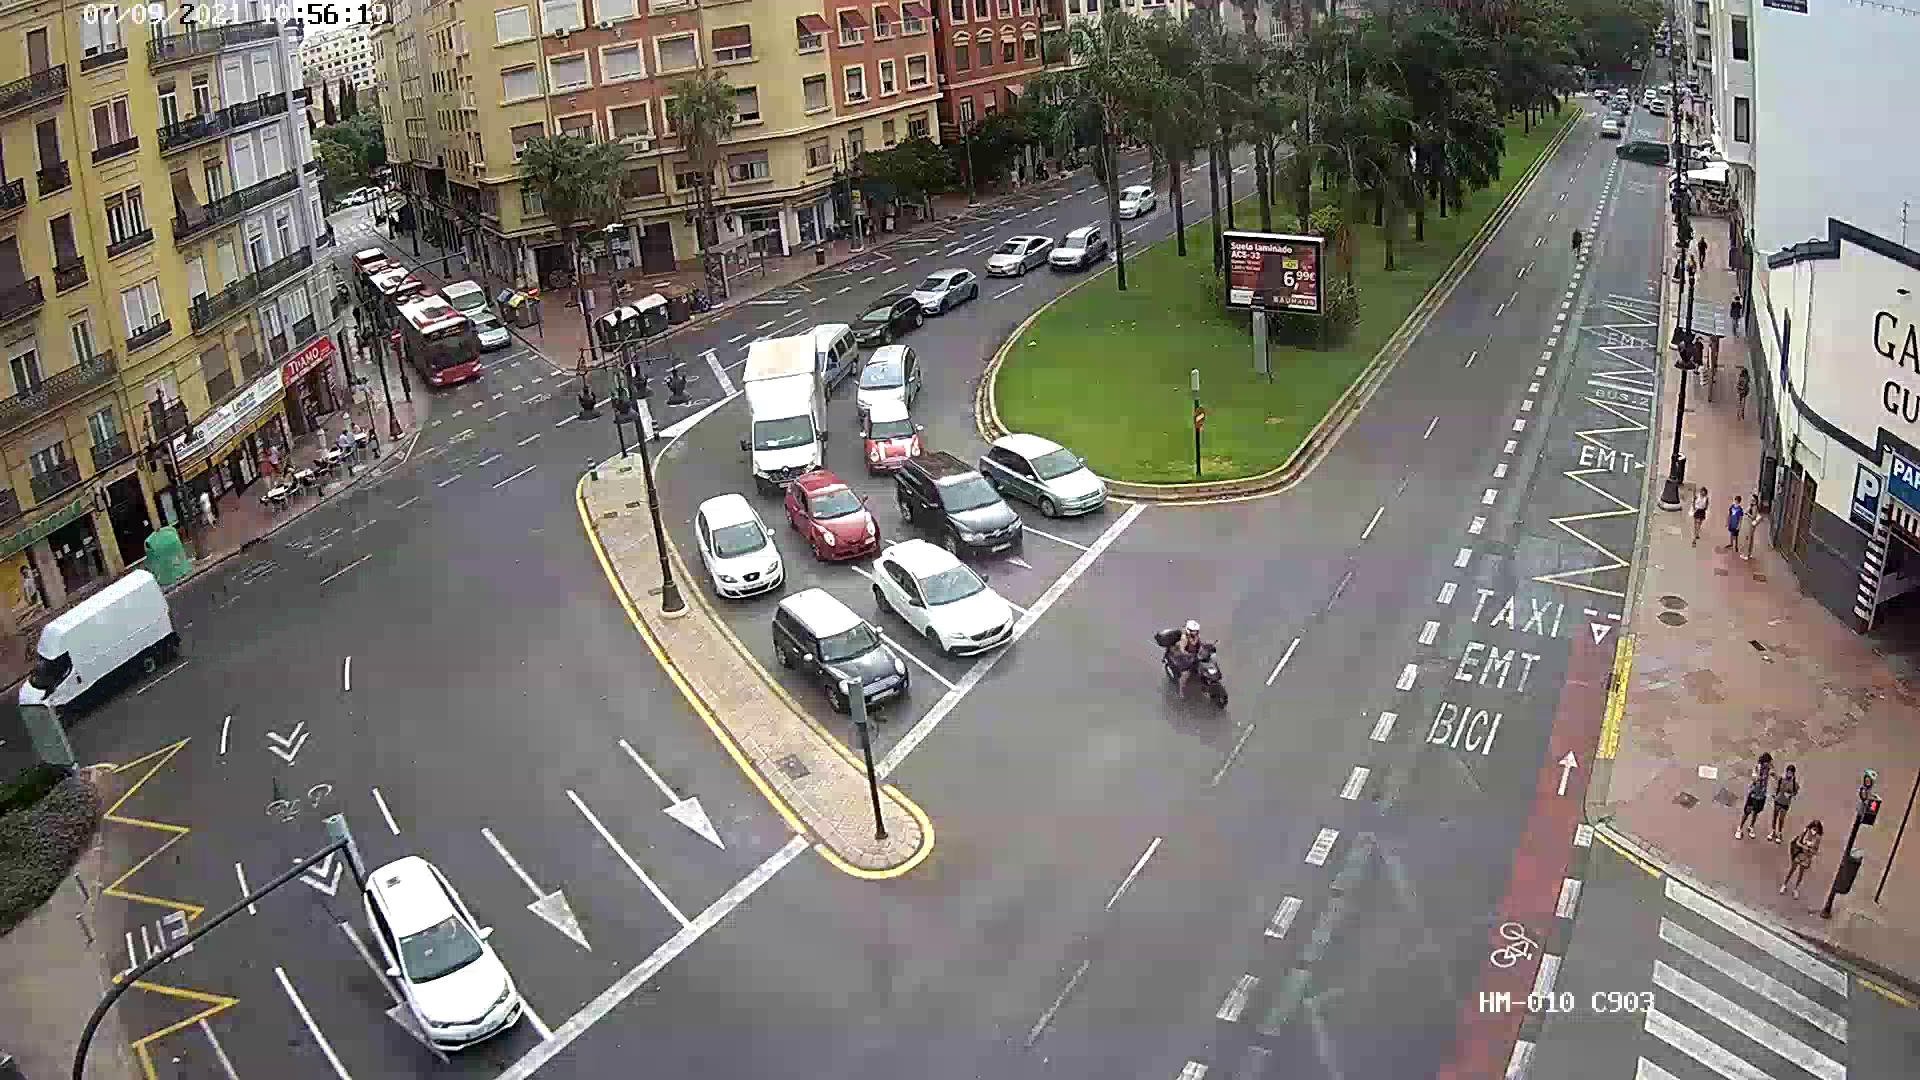Cars: (326, 876, 543, 1036), (860, 531, 1017, 659), (766, 589, 913, 713), (885, 451, 1026, 560), (976, 429, 1109, 520), (675, 502, 775, 597), (770, 477, 887, 556), (855, 334, 916, 425), (978, 231, 1055, 280), (1050, 229, 1106, 273)
